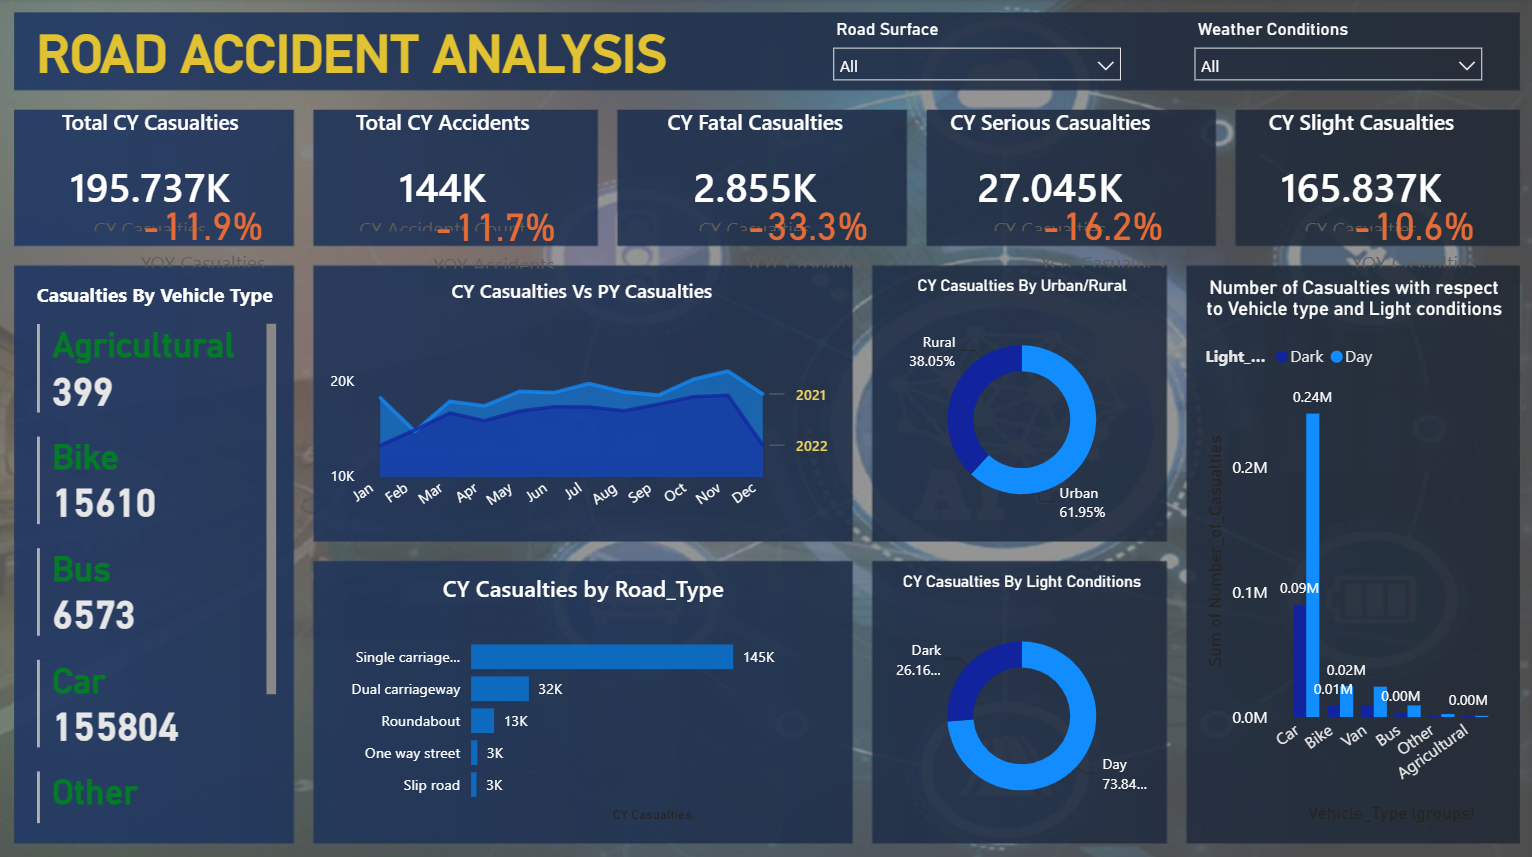

Layout of this report page (visuals, bound fields, positions):
{"tool":"powerbi","page":{"name":"Page 1","canvas":[1280,720],"ordinal":0},"visuals":[{"type":"group","id":"g1","title":"Group 1","box":[17.6,91.5,255.8,150.5],"z":0},{"type":"cardVisual","title":"Total CY Casualties","fields":{"Data":["Data.CY Casualties"]},"box":[17.6,91.5,219.4,120.4],"z":0,"group":"g1"},{"type":"cardVisual","title":"Total CY Accidents","fields":{"Data":["Data.CY Accidents Count"]},"box":[260.8,91.5,219.4,120.4],"z":0,"group":"g2"},{"type":"cardVisual","title":" CY Fatal Casualties","fields":{"Data":["Data.CY Casualties"]},"box":[520.4,91.5,219.4,120.4],"z":0,"group":"g3"},{"type":"cardVisual","title":" CY Serious Casualties","fields":{"Data":["Data.CY Casualties"]},"box":[765.5,91.6,219.4,120.4],"z":0,"group":"g5"},{"type":"cardVisual","title":" CY Slight Casualties","fields":{"Data":["Data.CY Casualties"]},"box":[1025.1,91.6,219.4,120.4],"z":0,"group":"g6"},{"type":"group","id":"g2","title":"Group 1","box":[260.8,91.5,259.6,150.5],"z":1000},{"type":"cardVisual","fields":{"Data":["Data.YOY Casualties"]},"box":[90.3,160.5,183.1,81.5],"z":1000,"group":"g1"},{"type":"cardVisual","fields":{"Data":["Data.YOY Casualties"]},"box":[593.1,160.5,183.1,81.5],"z":1000,"group":"g3"},{"type":"cardVisual","fields":{"Data":["Data.YOY Casualties"]},"box":[838.2,160.6,183.1,81.5],"z":1000,"group":"g5"},{"type":"cardVisual","fields":{"Data":["Data.YOY Casualties"]},"box":[1097.8,160.6,183.1,81.5],"z":1000,"group":"g6"},{"type":"cardVisual","fields":{"Data":["Data.YOY Accidents"]},"box":[333.8,161,186.8,81.5],"z":1000,"group":"g2"},{"type":"group","id":"g3","title":"Group 2","box":[520.4,91.5,255.8,150.5],"z":1004,"group":"g4"},{"type":"group","id":"g4","title":"Group 1","box":[520.4,91.5,255.8,150.5],"z":2000},{"type":"group","id":"g5","title":"Group 2","box":[765.5,91.6,255.2,150.1],"z":3000},{"type":"group","id":"g6","title":"Group 2","box":[1025.1,91.6,255.2,150.1],"z":4000},{"type":"textbox","box":[28.5,16.5,549.3,60],"z":5000},{"type":"multiRowCard","fields":{"Values":["Data.Vehicle_Type (groups)","Data.CY Casualties"]},"box":[28.5,265.7,208.6,424.8],"z":6000},{"type":"textbox","box":[28.5,231.1,208.6,34.5],"z":7000},{"type":"areaChart","title":"CY Casualties Vs PY Casualties","fields":{"Category":["Calendar.Month"],"Y":["Sum(Data.Number_of_Casualties)"],"Series":["Calendar.Date.Variation.Date Hierarchy.Year"]},"box":[272.5,231.3,427.8,212.3],"z":8000},{"type":"donutChart","title":"CY Casualties By Urban/Rural","fields":{"Category":["Data.Urban_or_Rural_Area"],"Y":["Data.CY Casualties"]},"box":[738.4,231.3,226.6,212.3],"z":9000},{"type":"donutChart","title":"CY Casualties By Light Conditions","fields":{"Y":["Data.CY Casualties"],"Category":["Data.Light_Conditions (groups)"]},"box":[738.4,478.5,226.6,212.3],"z":10000},{"type":"barChart","fields":{"Category":["Data.Road_Type"],"Y":["Data.CY Casualties"]},"box":[274.1,478.5,426.2,212.3],"z":11000},{"type":"slicer","fields":{"Values":["Data.Weather_Conditions (groups)"]},"box":[985.2,12.6,259.3,64.5],"z":12000},{"type":"slicer","fields":{"Values":["Data.Road_Surface_Conditions (groups)"]},"box":[684.4,12.6,259.3,64.5],"z":13000},{"type":"clusteredColumnChart","title":"Number of Casualties with respect to Vehicle type and  Light conditions","fields":{"Category":["Data.Vehicle_Type (groups)"],"Series":["Data.Light_Conditions (groups)"],"Y":["Sum(Data.Number_of_Casualties)"]},"box":[1000,231.4,257.1,458.6],"z":14000}]}

Visuals, with their boxes in screenshot pixels (x1, y1, x2, y2), scaled from the page's 1280x720 canvas onto the 1532x857 screenshot:
"Group 1" group: (x1=21, y1=109, x2=327, y2=288)
"Total CY Casualties" cardVisual: (x1=21, y1=109, x2=284, y2=252)
"Total CY Accidents" cardVisual: (x1=312, y1=109, x2=575, y2=252)
" CY Fatal Casualties" cardVisual: (x1=623, y1=109, x2=885, y2=252)
" CY Serious Casualties" cardVisual: (x1=916, y1=109, x2=1179, y2=252)
" CY Slight Casualties" cardVisual: (x1=1227, y1=109, x2=1490, y2=252)
"Group 1" group: (x1=312, y1=109, x2=623, y2=288)
cardVisual - Data.YOY Casualties: (x1=108, y1=191, x2=327, y2=288)
cardVisual - Data.YOY Casualties: (x1=710, y1=191, x2=929, y2=288)
cardVisual - Data.YOY Casualties: (x1=1003, y1=191, x2=1222, y2=288)
cardVisual - Data.YOY Casualties: (x1=1314, y1=191, x2=1531, y2=288)
cardVisual - Data.YOY Accidents: (x1=400, y1=192, x2=623, y2=289)
"Group 2" group: (x1=623, y1=109, x2=929, y2=288)
"Group 1" group: (x1=623, y1=109, x2=929, y2=288)
"Group 2" group: (x1=916, y1=109, x2=1222, y2=288)
"Group 2" group: (x1=1227, y1=109, x2=1531, y2=288)
textbox: (x1=34, y1=20, x2=692, y2=91)
multiRowCard - Data.Vehicle_Type (groups) x Data.CY Casualties: (x1=34, y1=316, x2=284, y2=822)
textbox: (x1=34, y1=275, x2=284, y2=316)
"CY Casualties Vs PY Casualties" areaChart: (x1=326, y1=275, x2=838, y2=528)
"CY Casualties By Urban/Rural" donutChart: (x1=884, y1=275, x2=1155, y2=528)
"CY Casualties By Light Conditions" donutChart: (x1=884, y1=570, x2=1155, y2=822)
barChart - Data.Road_Type x Data.CY Casualties: (x1=328, y1=570, x2=838, y2=822)
slicer - Data.Weather_Conditions (groups): (x1=1179, y1=15, x2=1490, y2=92)
slicer - Data.Road_Surface_Conditions (groups): (x1=819, y1=15, x2=1129, y2=92)
"Number of Casualties with respect to Vehicle type and  Light conditions" clusteredColumnChart: (x1=1197, y1=275, x2=1505, y2=821)
